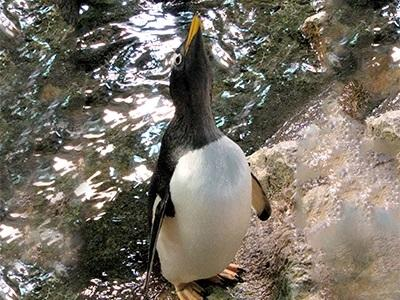king: (130, 16, 283, 300)
